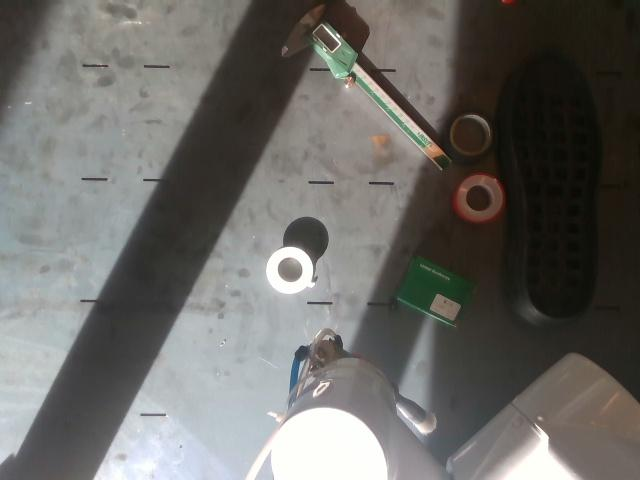shoes: (511, 51, 602, 319)
